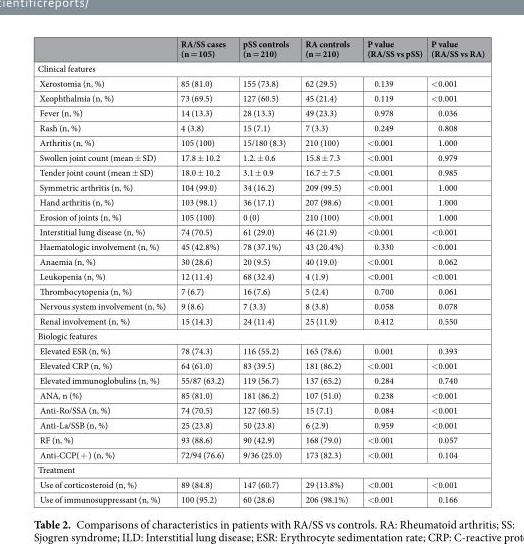table: (36, 37, 484, 504)
table column: (36, 37, 172, 504), (357, 37, 426, 504), (233, 37, 296, 504), (172, 37, 233, 504), (296, 37, 357, 504), (426, 37, 484, 504)
table column header: (36, 37, 484, 60)
table projected row header: (36, 60, 484, 75), (36, 461, 484, 476), (36, 328, 484, 342)
table row: (36, 37, 484, 60), (36, 60, 484, 75), (36, 75, 484, 90), (36, 90, 484, 105), (36, 119, 484, 134), (36, 134, 484, 149), (36, 149, 484, 164), (36, 164, 484, 179), (36, 179, 484, 194), (36, 194, 484, 209), (36, 209, 484, 224), (36, 238, 484, 253), (36, 253, 484, 268), (36, 268, 484, 283), (36, 283, 484, 298), (36, 298, 484, 313), (36, 313, 484, 328), (36, 342, 484, 357), (36, 357, 484, 372), (36, 372, 484, 387), (36, 387, 484, 402), (36, 402, 484, 417), (36, 417, 484, 432), (36, 446, 484, 461), (36, 461, 484, 476), (36, 476, 484, 491), (36, 105, 484, 119), (36, 224, 484, 238), (36, 328, 484, 342), (36, 432, 484, 446), (36, 491, 484, 504)
